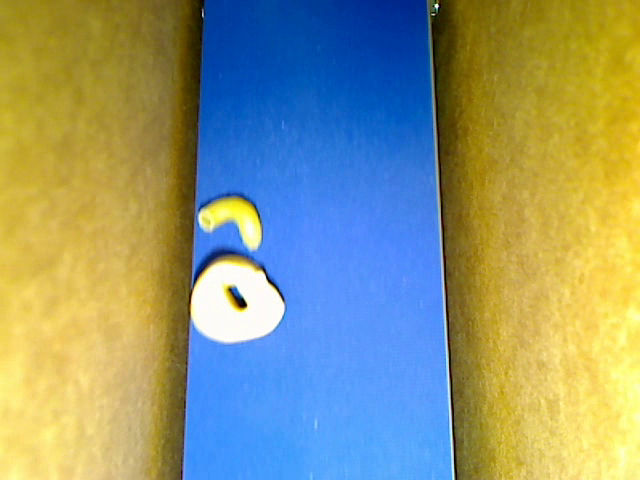elbow: (197, 195, 262, 250)
tortellini: (189, 255, 285, 343)
